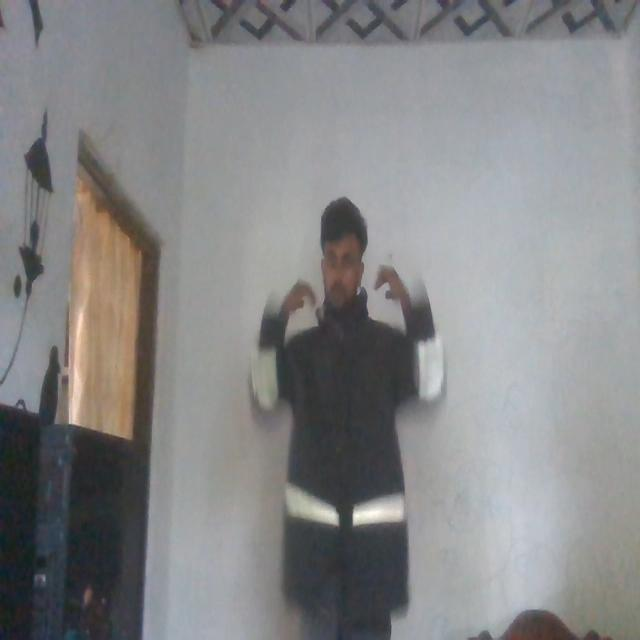Jacket_Wearer: (256, 263, 442, 613)
Person: (256, 198, 428, 640)
